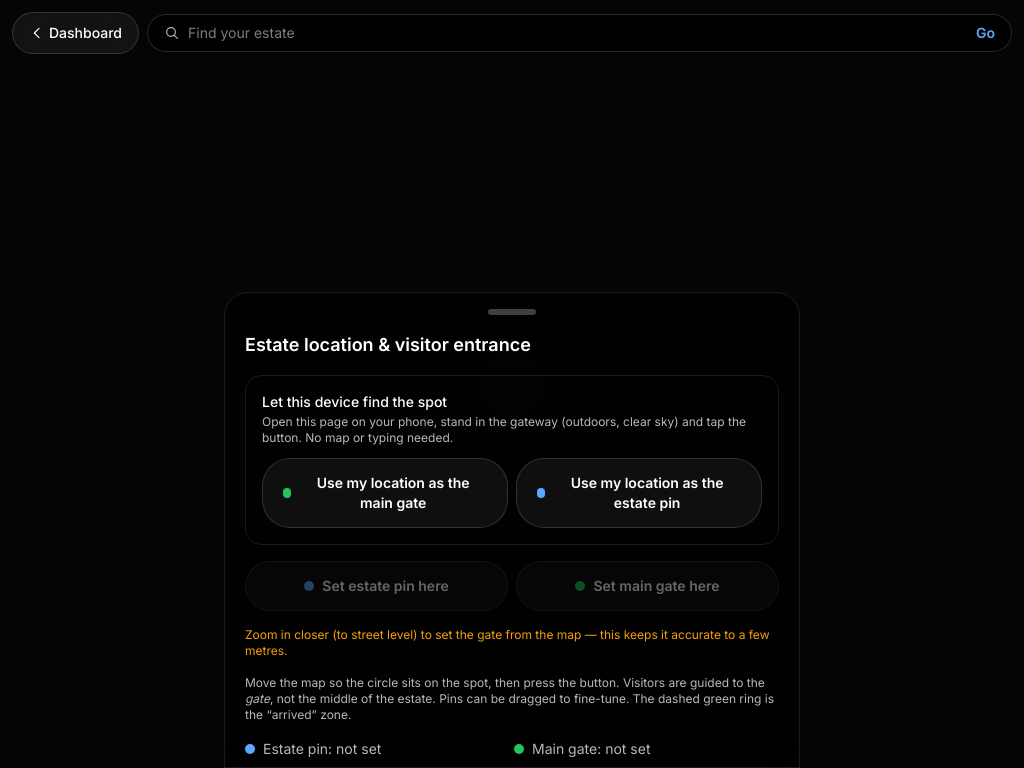
Test case: LocationEditor (full-screen admin map) › "Use my location" from the phone GPS (kept from the existing feature) › sets the gate from a good reading
Expected: the list item "Estate pin: not set" is shown, 245,740 -> 381,757
Click the button "Use my location as the main gate" at [385, 493], box 262,458 -> 508,528
(page scrolled)
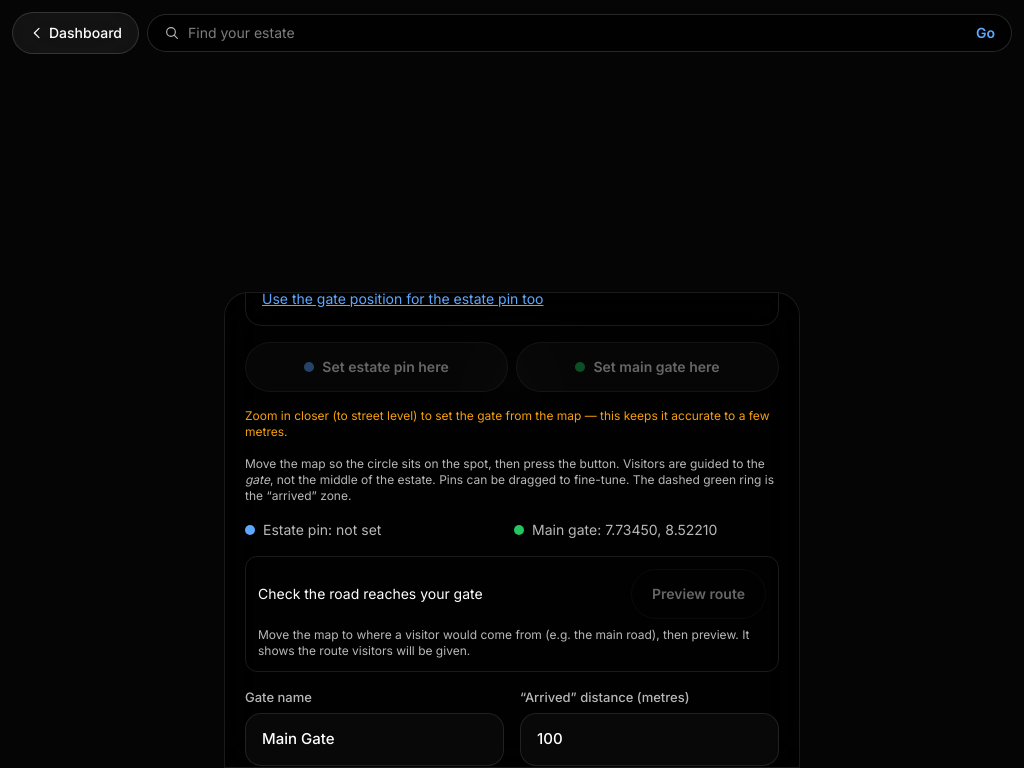
Now the list item "Main gate: 7.73450, 8.52210" is shown, box 514,521 -> 717,538
